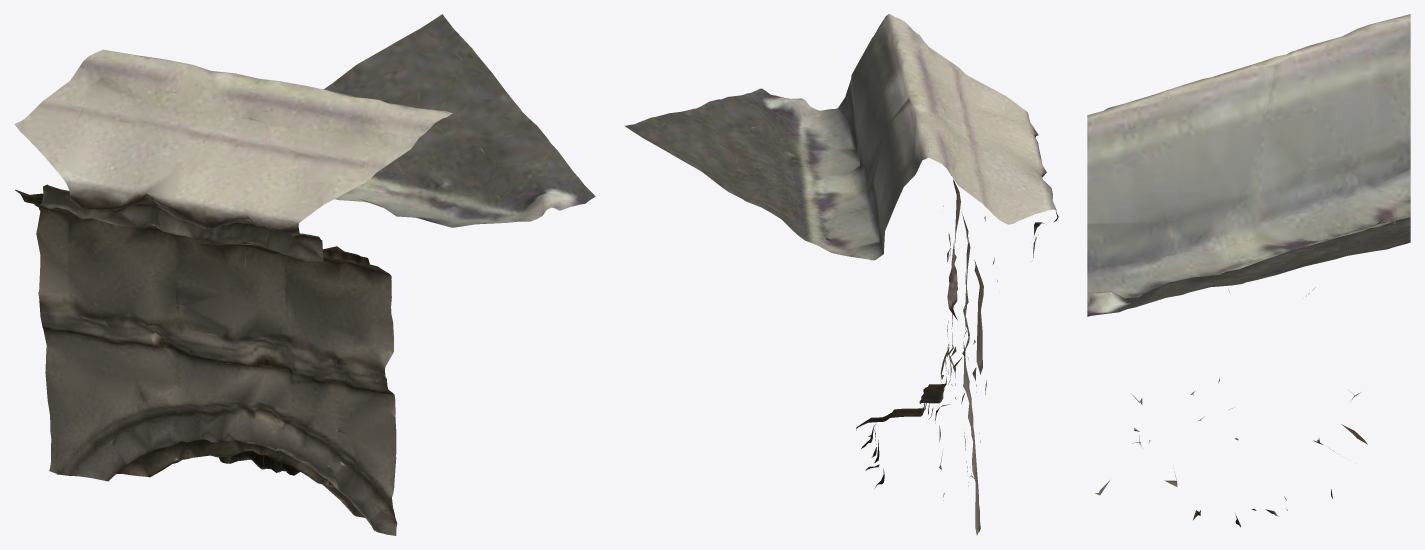
3 views of the same model, side by side, from view 1: azimuth 30°, elevation 25°; view 2: azimuth 150°, elevation 25°; view 3: azimuth 270°, elevation 25° (orthographic). The views are drawn at different scales.
Bounding box in the file's own units: 4.5 × 4.12 × 2.79.
1 material, 1 textured.
